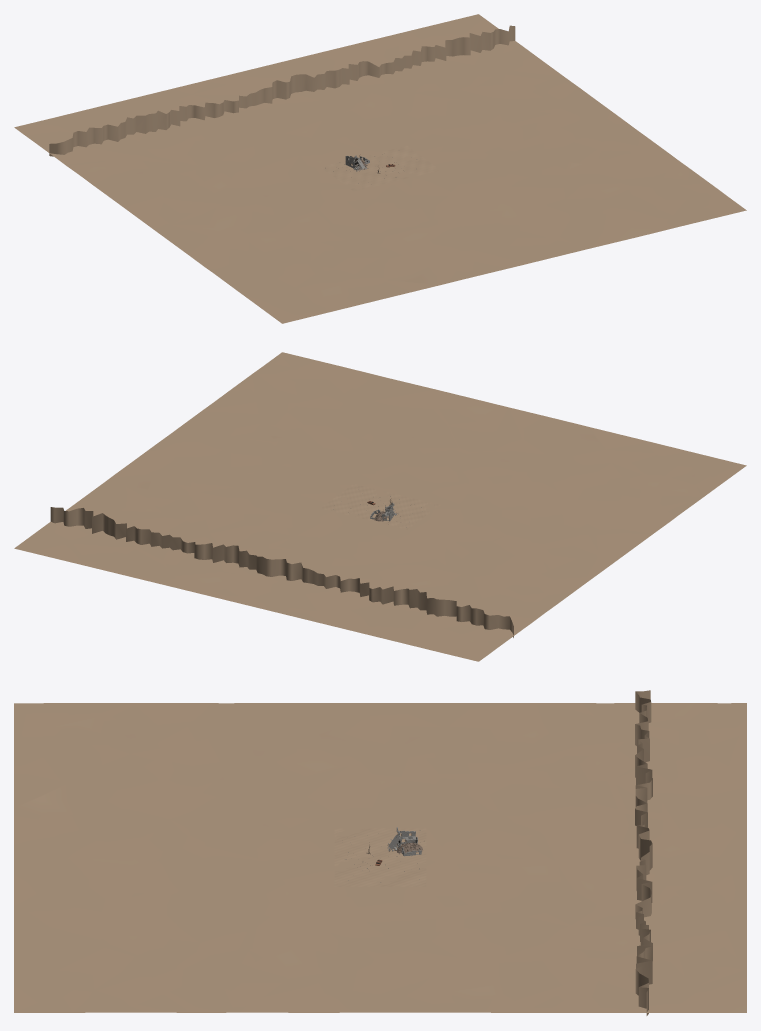
The model's file is wasteland_scene.glb.
3 views of the same model, one above another, from view 1: azimuth 30°, elevation 25°; view 2: azimuth 150°, elevation 25°; view 3: azimuth 270°, elevation 25° (orthographic). The views are drawn at different scales.
Visible parts, largest first — view 1: wst_terrain_ground_far, wst_bg_ridge_01, wst_terrain_ground; view 2: wst_terrain_ground_far, wst_bg_ridge_01, wst_terrain_ground; view 3: wst_terrain_ground_far, wst_bg_ridge_01, wst_terrain_ground.
Part boxes in pixels (x1,y1,x2,y2): wst_terrain_ground_far: (14,14,746,323); wst_bg_ridge_01: (49,25,515,156); wst_terrain_ground: (320,146,440,191); wst_terrain_ground_far: (14,352,746,661); wst_bg_ridge_01: (50,507,513,637); wst_terrain_ground: (320,484,440,529); wst_terrain_ground_far: (14,703,746,1012); wst_bg_ridge_01: (635,690,652,1015); wst_terrain_ground: (334,828,426,886).
Bounding box in the file's own units: 320 × 14.14 × 320.
